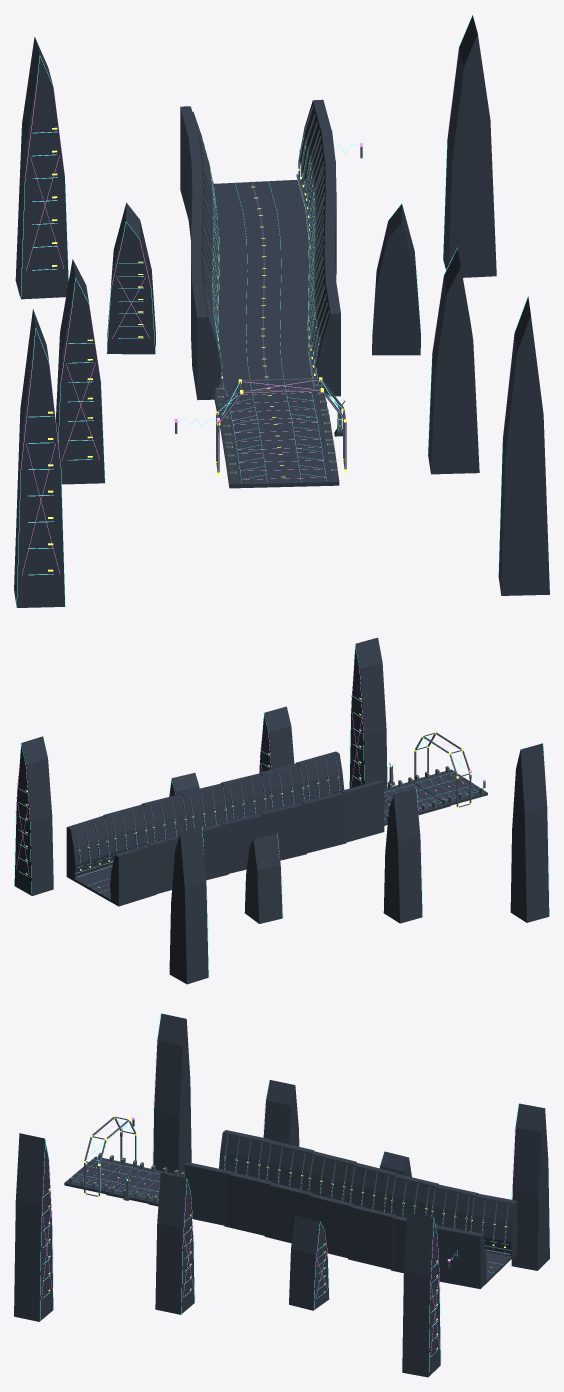
Rendered from route_batch_9.glb.
3 renders of one model, top to bottom at view 1: azimuth 30°, elevation 25°; view 2: azimuth 150°, elevation 25°; view 3: azimuth 270°, elevation 25°, orthographic. The views are drawn at different scales.
Parts seen in each view (by area): view 1: route_batch_9; view 2: route_batch_9; view 3: route_batch_9.
Part boxes in pixels (<box>): route_batch_9: <box>14,14,549,608</box>; route_batch_9: <box>14,637,549,984</box>; route_batch_9: <box>14,1013,549,1377</box>.
Bounding box in the file's own units: 742 × 292 × 792.
